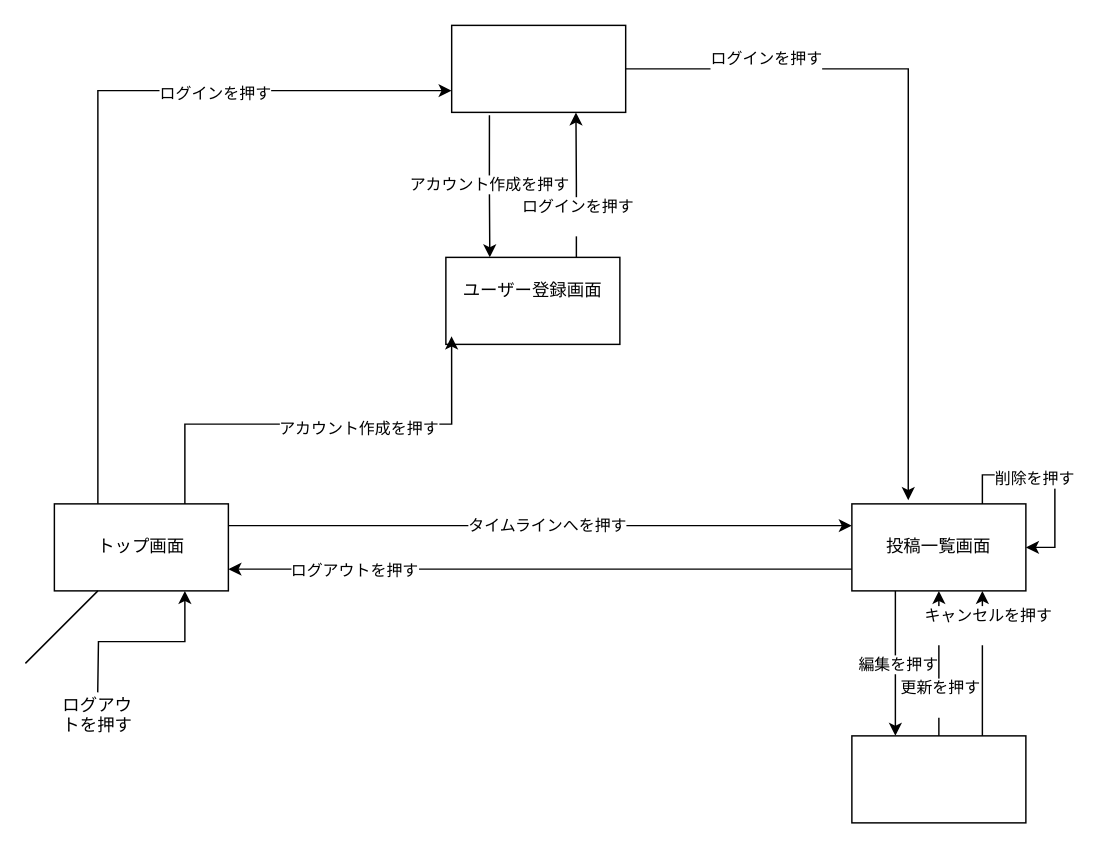
This 1099x848 diagram has some shape labels left out. The shapes that lost their labels are listed below. From the top down, each one's centre as x and y in pixels, then its label:
the point at 538,68: ログイン画面
the point at 938,778: 投稿編集画面
